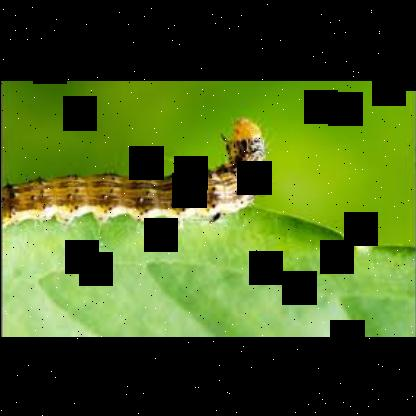oruga: (0, 108, 278, 221)
